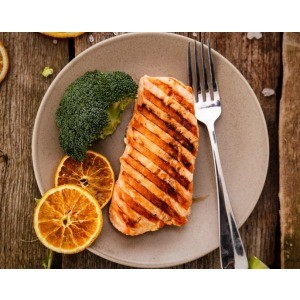salmon_brain food: (109, 84, 198, 242)
